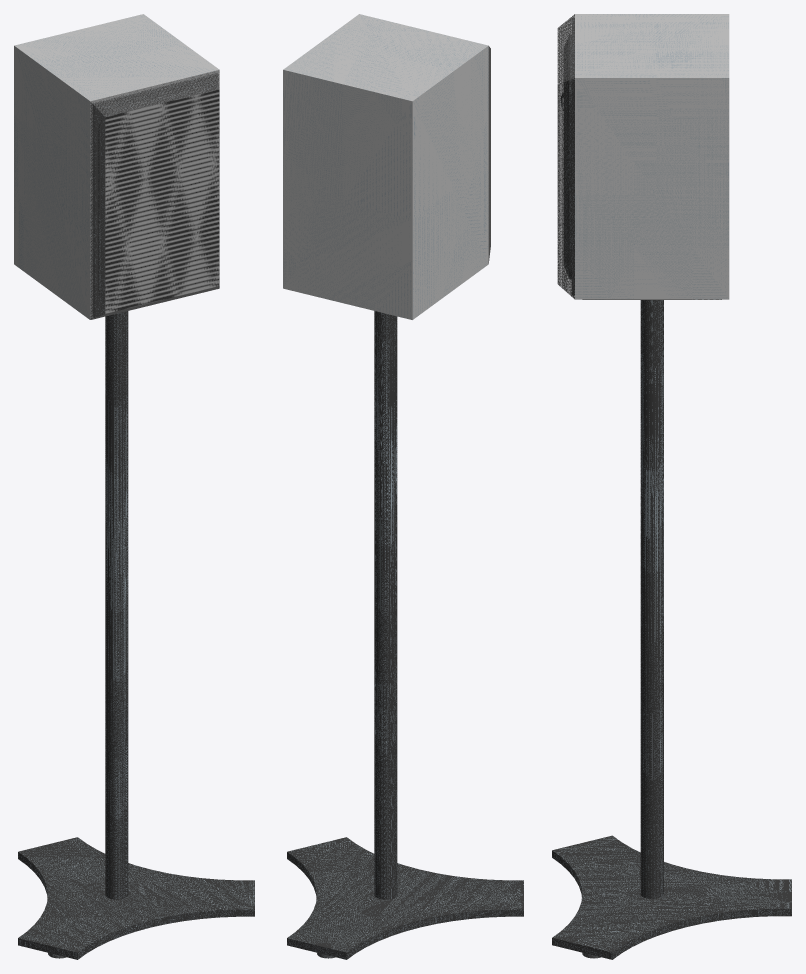
3 views of the same model, side by side, from view 1: azimuth 30°, elevation 25°; view 2: azimuth 150°, elevation 25°; view 3: azimuth 270°, elevation 25° (orthographic).
Visible parts, largest first — view 1: Speaker_Box (×2), Stand (×2), Front_Mess, Plate; view 2: Speaker_Box, Stand (×2), Front_Mess; view 3: Speaker_Box (×2), Stand (×2), Front_Mess, Plate.
Part boxes in pixels (<box>): Speaker_Box (×2): <box>14,14,219,319</box>; Stand (×2): <box>18,311,254,959</box>; Front_Mess: <box>90,70,219,319</box>; Plate: <box>98,87,210,303</box>; Speaker_Box: <box>283,14,488,319</box>; Stand (×2): <box>287,311,523,959</box>; Front_Mess: <box>488,46,490,263</box>; Speaker_Box (×2): <box>572,14,729,299</box>; Stand (×2): <box>552,300,791,959</box>; Front_Mess: <box>557,14,574,299</box>; Plate: <box>563,34,571,279</box>.
Bounding box in the file's own units: 11.89 × 10.3 × 40.97.
